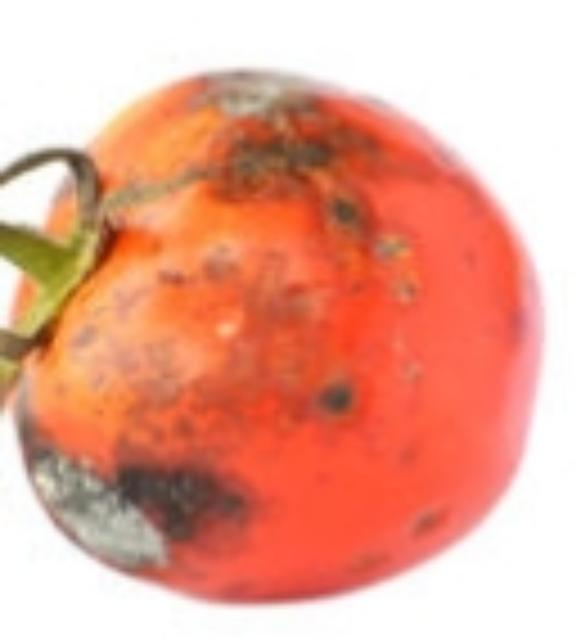defect: (0, 46, 558, 615)
